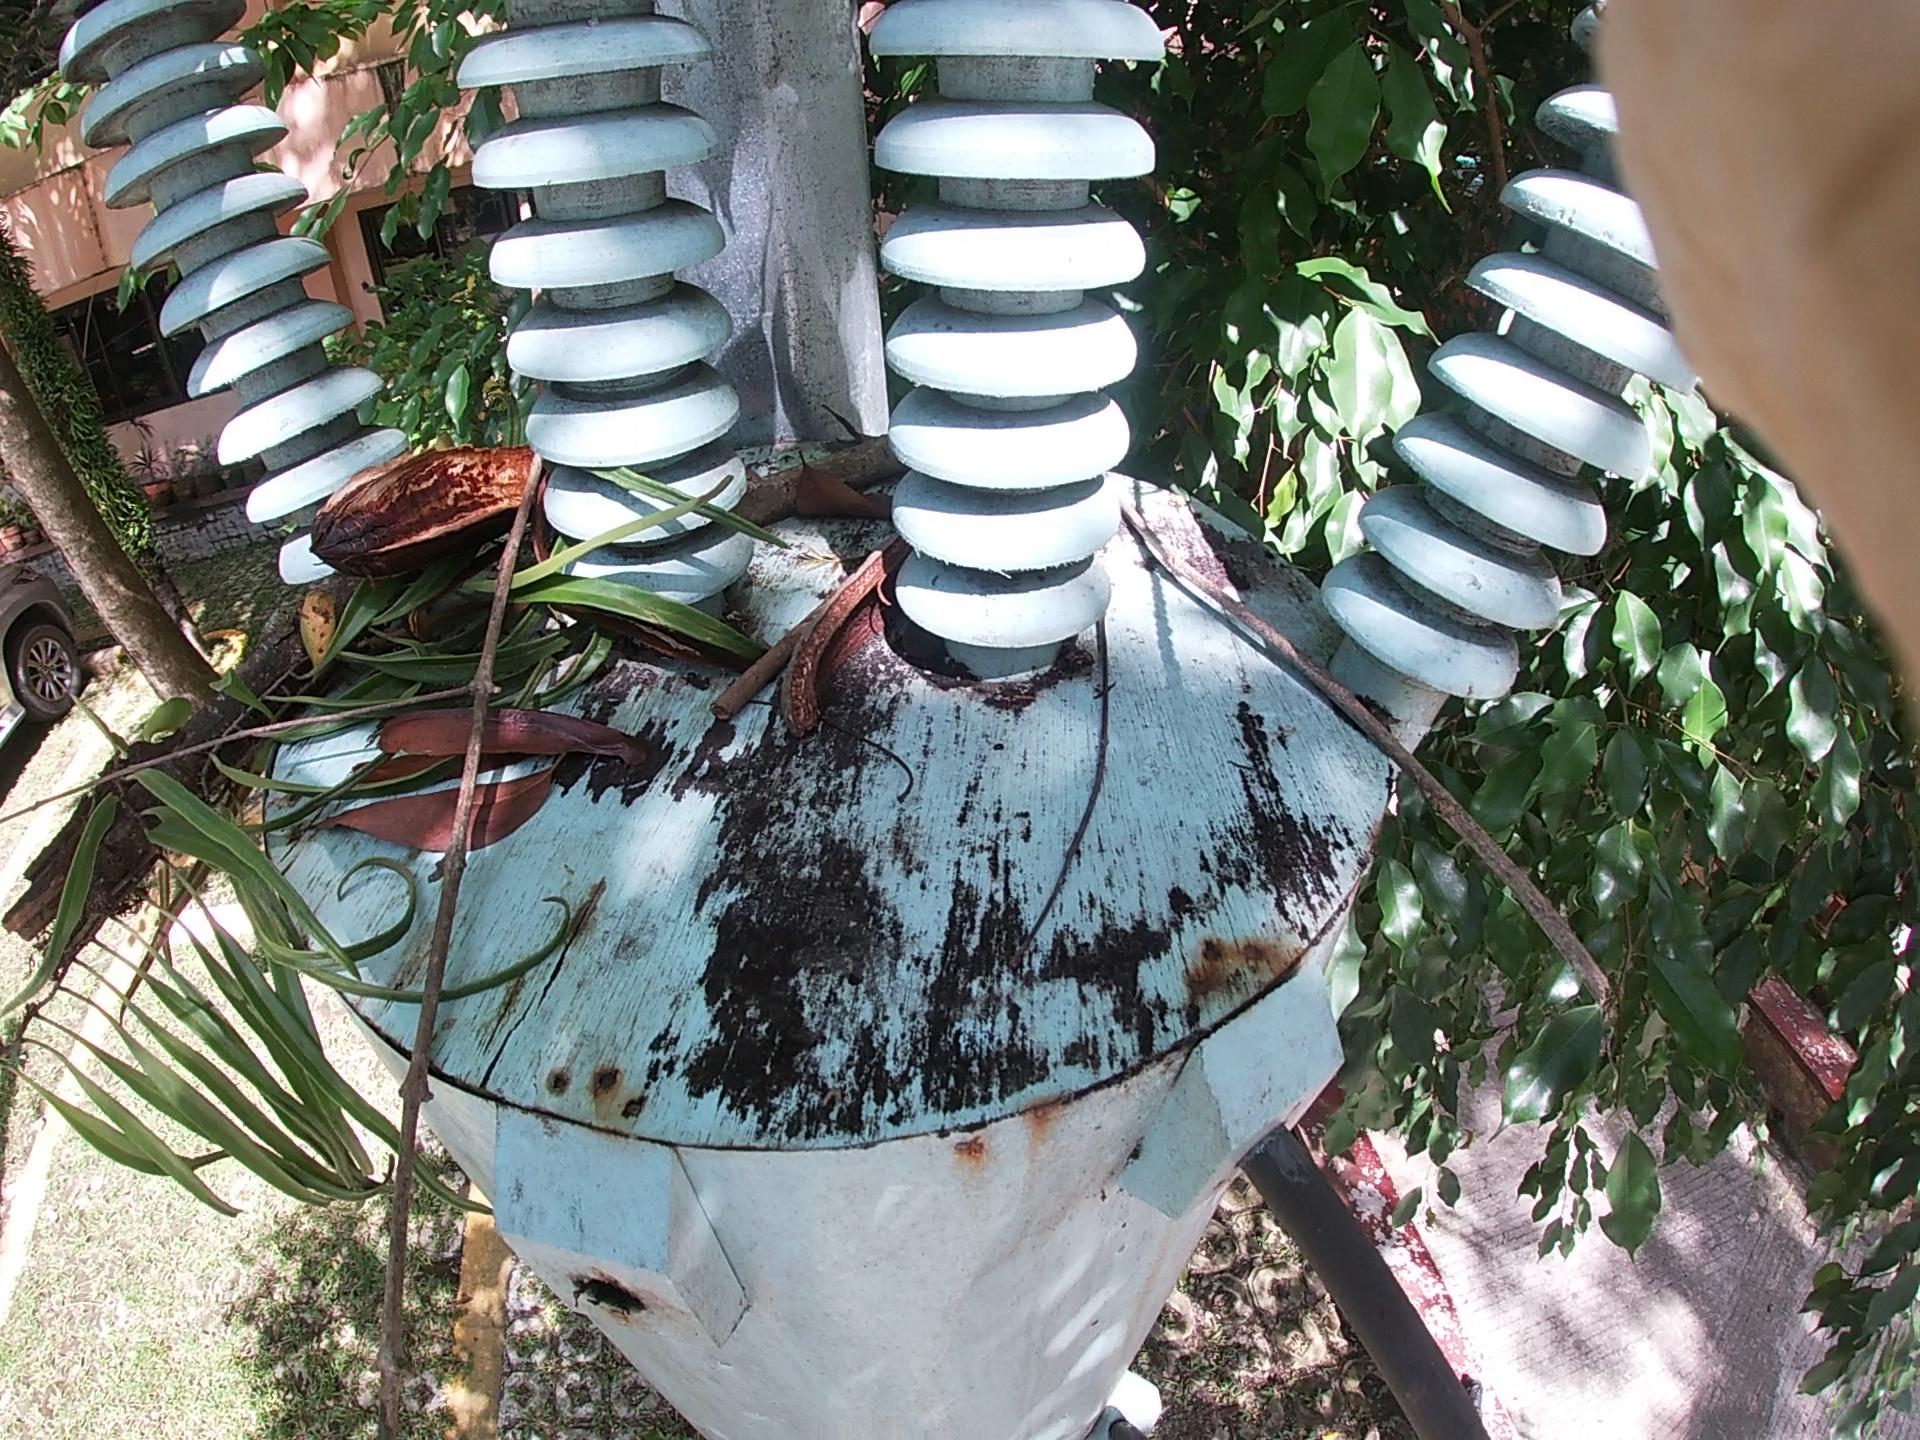branch with leaves: (39, 337, 599, 942)
leaf: (765, 442, 900, 566)
mahogany fruit: (701, 501, 937, 791), (324, 349, 525, 601)
tree branch: (1105, 498, 1699, 1104), (367, 433, 565, 1331), (650, 476, 1061, 706), (1017, 649, 1190, 933), (730, 457, 1010, 493)
